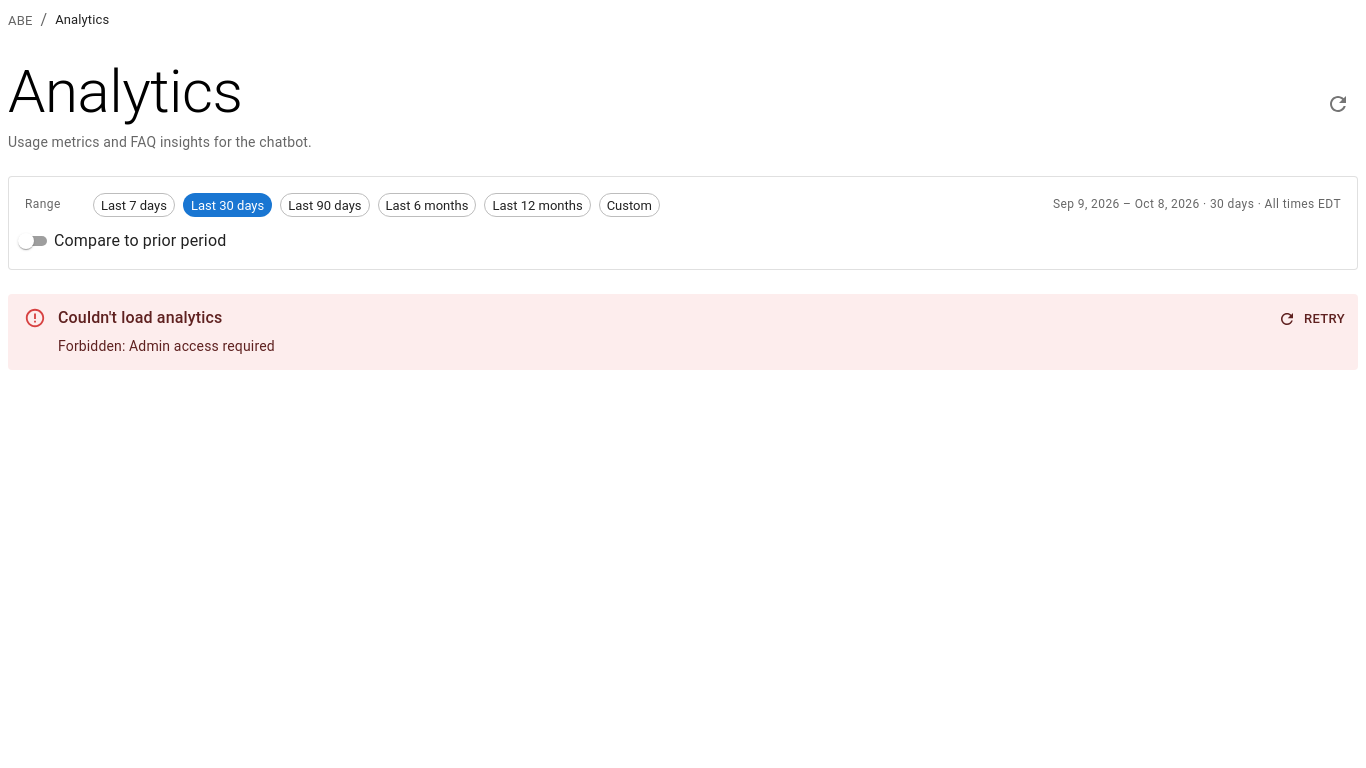
Test: MetricsPage › shows the server error with a Retry button, and Retry reloads the data
Expected: the text "Forbidden: Admin access required" is shown, [58,338,275,354]
Expected: the tab "Overview" is not shown
Click the button "Retry".
click(1312, 319)  # box [1275,304,1350,335]
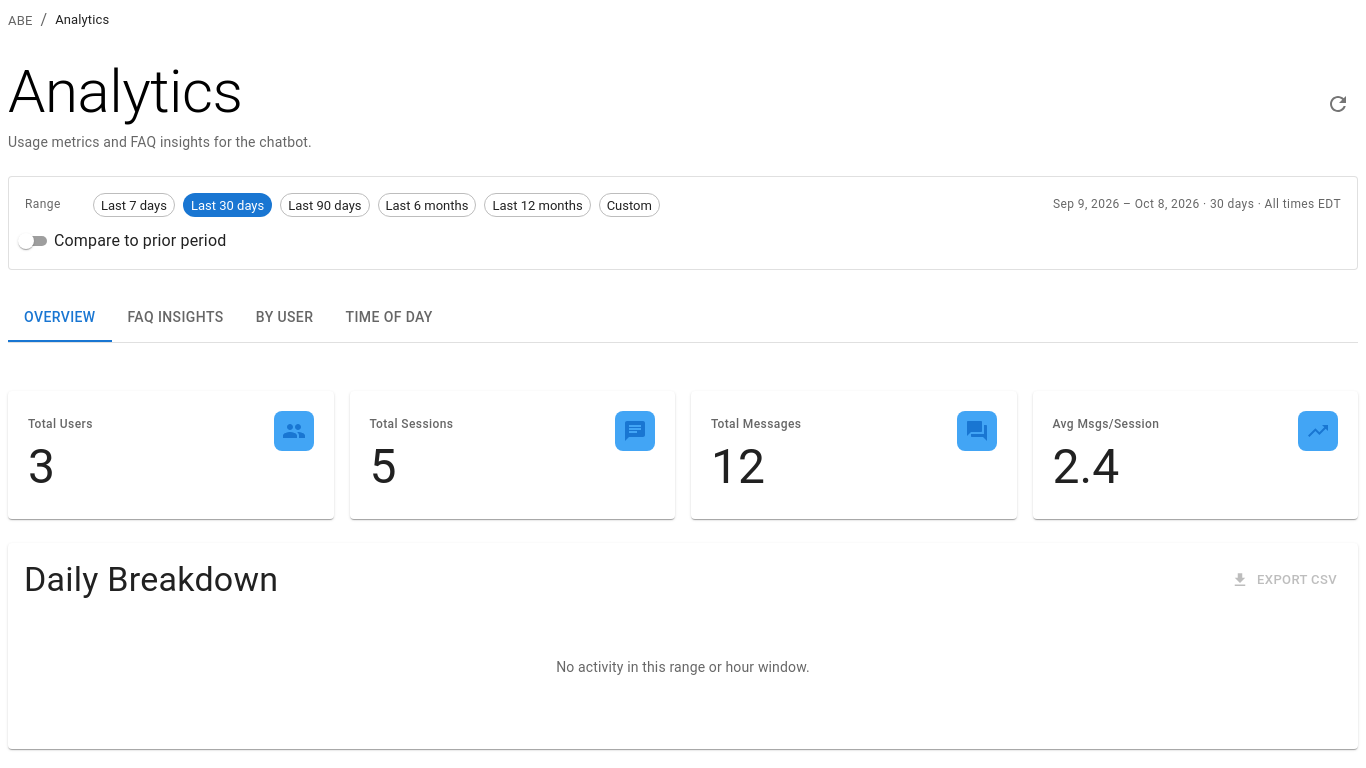
Expected: the tab "Overview" is shown, [8,294,112,342]
Expected: the text "Forbidden: Admin access required" is gone
